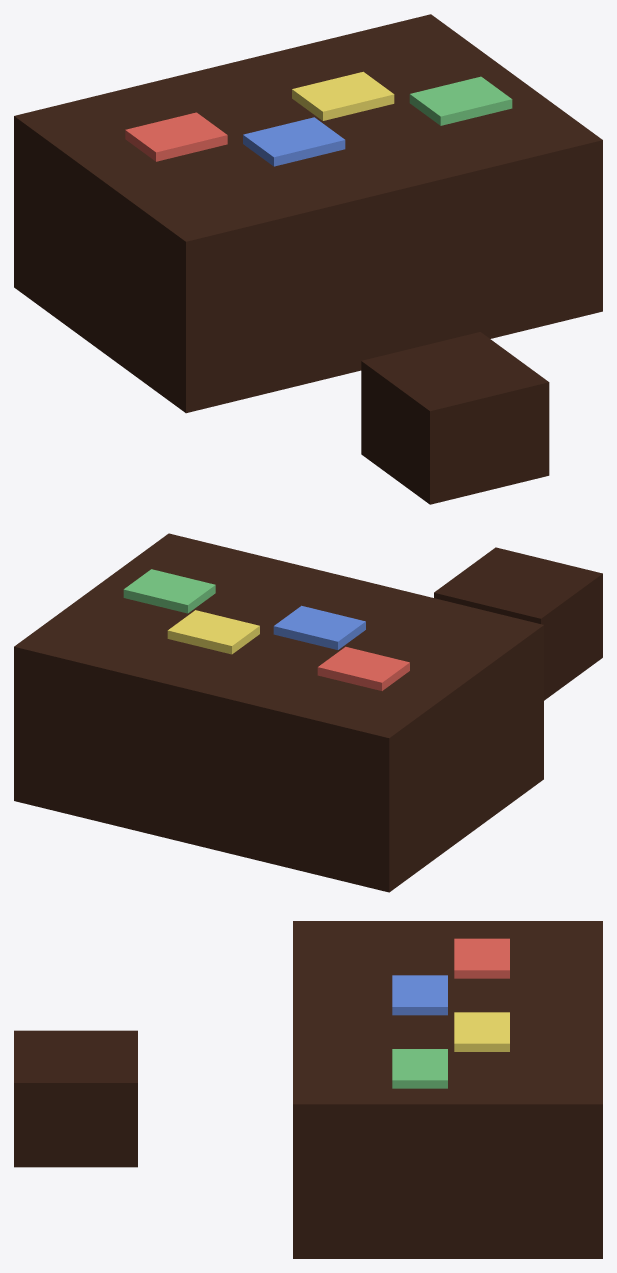
Rendered from mesinha_crianca.glb.
3 renders of one model, top to bottom at view 1: azimuth 30°, elevation 25°; view 2: azimuth 150°, elevation 25°; view 3: azimuth 270°, elevation 25°, orthographic. The views are drawn at different scales.
Parts seen in each view (by area): view 1: Malha_0; view 2: Malha_0; view 3: Malha_0.
Boxes of the visible parts, x1,y1,x2,y2 form: Malha_0: (14,14,602,504); Malha_0: (14,533,602,892); Malha_0: (14,921,602,1258).
Size of the model in its own units: 1.4 by 0.58 by 1.9.
